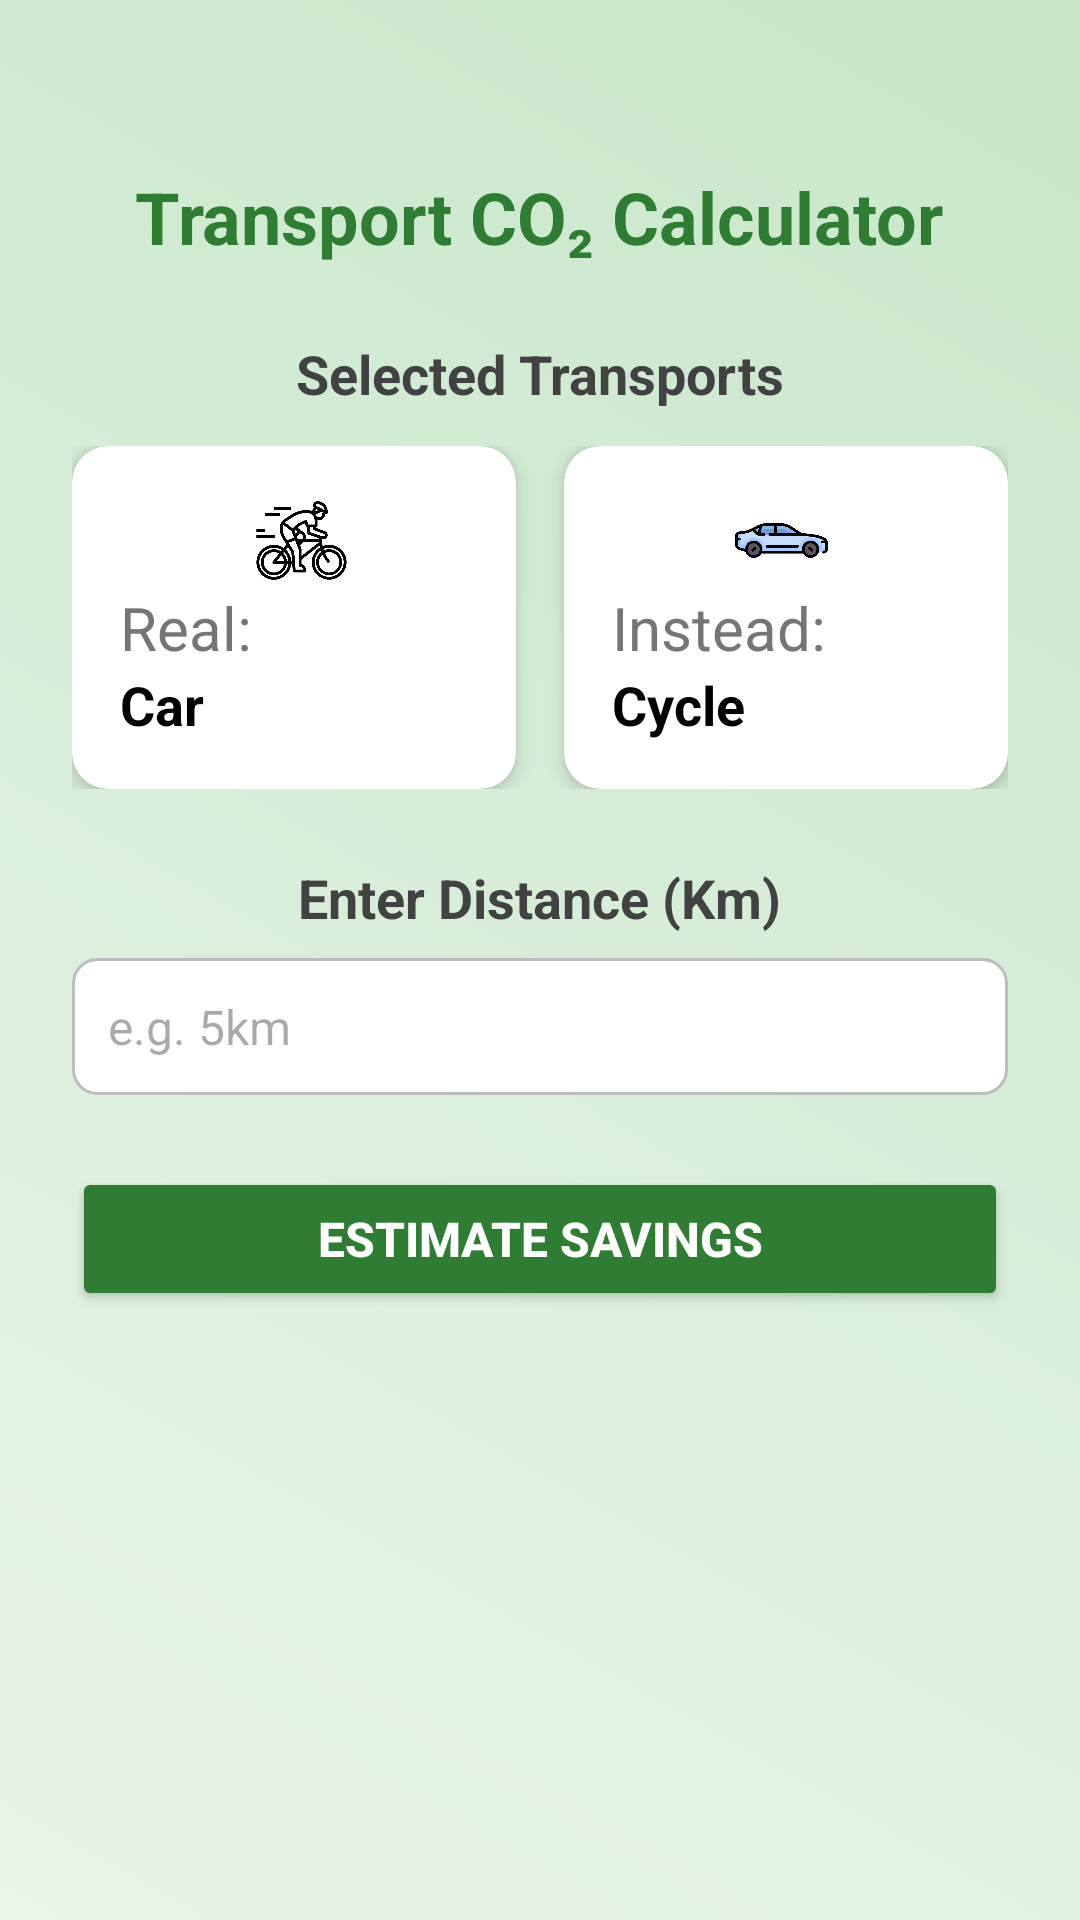

Point at icon controls on the screen. Image size 1080w x 1920h, points as (x=x, y=y).
car: (x=781, y=540)
